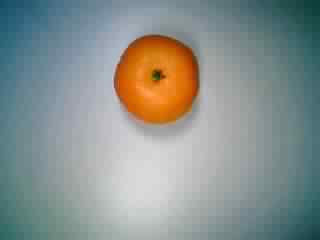orange: (106, 33, 207, 128)
